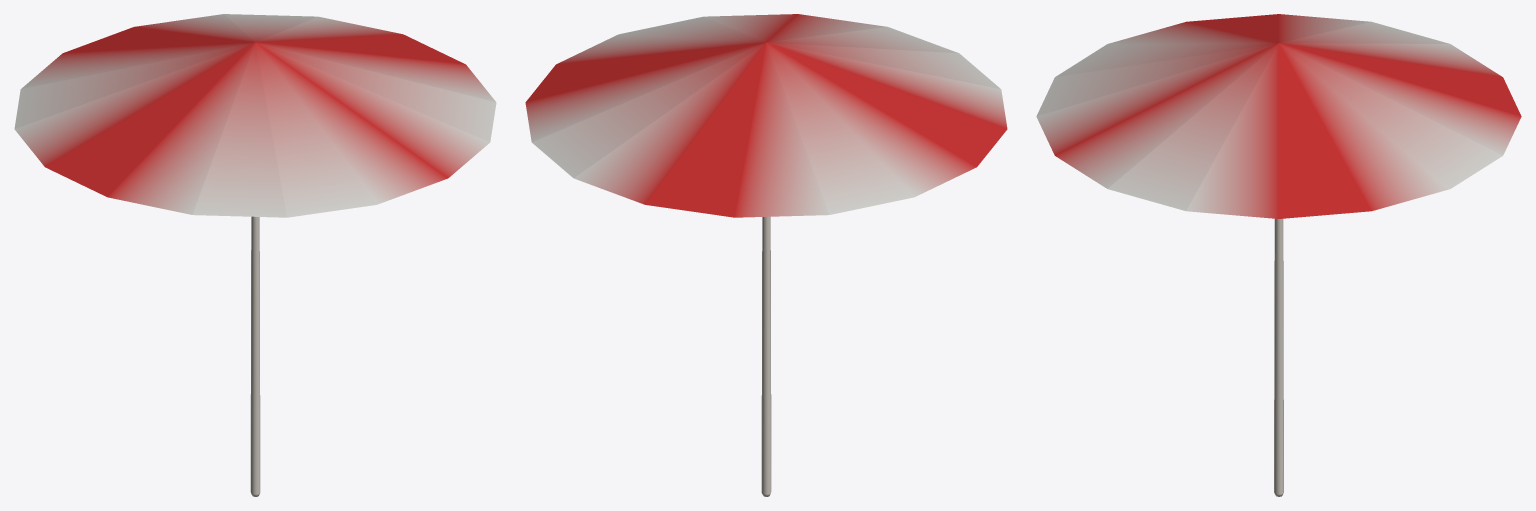
File: Umbrella.glb
The picture shows the model from 3 angles, left to right: view 1: azimuth 30°, elevation 25°; view 2: azimuth 150°, elevation 25°; view 3: azimuth 270°, elevation 25°; orthographic projection.
Visible parts, largest first — view 1: Canopy, Pole; view 2: Canopy, Pole; view 3: Canopy, Pole.
Boxes of the visible parts, left/top/right/bottom form: Canopy: left=14, top=14, right=496, bottom=217; Pole: left=250, top=216, right=260, bottom=496; Canopy: left=525, top=14, right=1007, bottom=217; Pole: left=761, top=216, right=771, bottom=496; Canopy: left=1036, top=14, right=1521, bottom=218; Pole: left=1274, top=218, right=1283, bottom=496.
Size of the model in its own units: 2.4 by 2.48 by 2.4.
